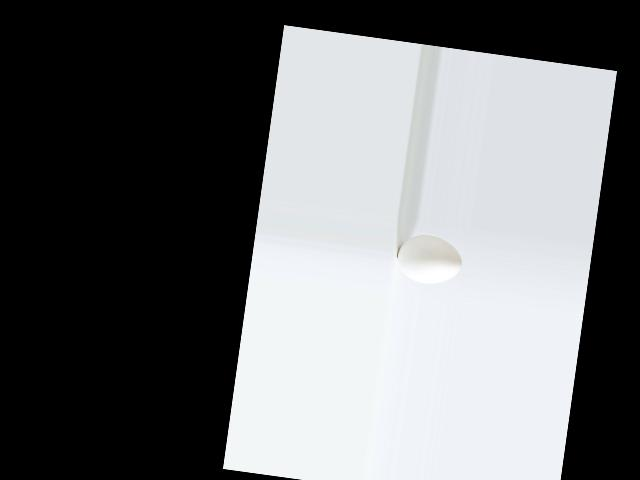egg: (394, 232, 465, 288)
